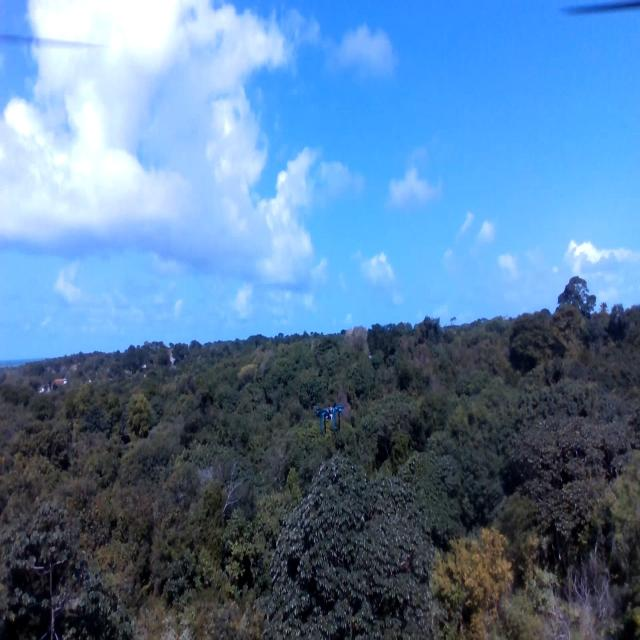-uav-: (313, 390, 349, 447)
